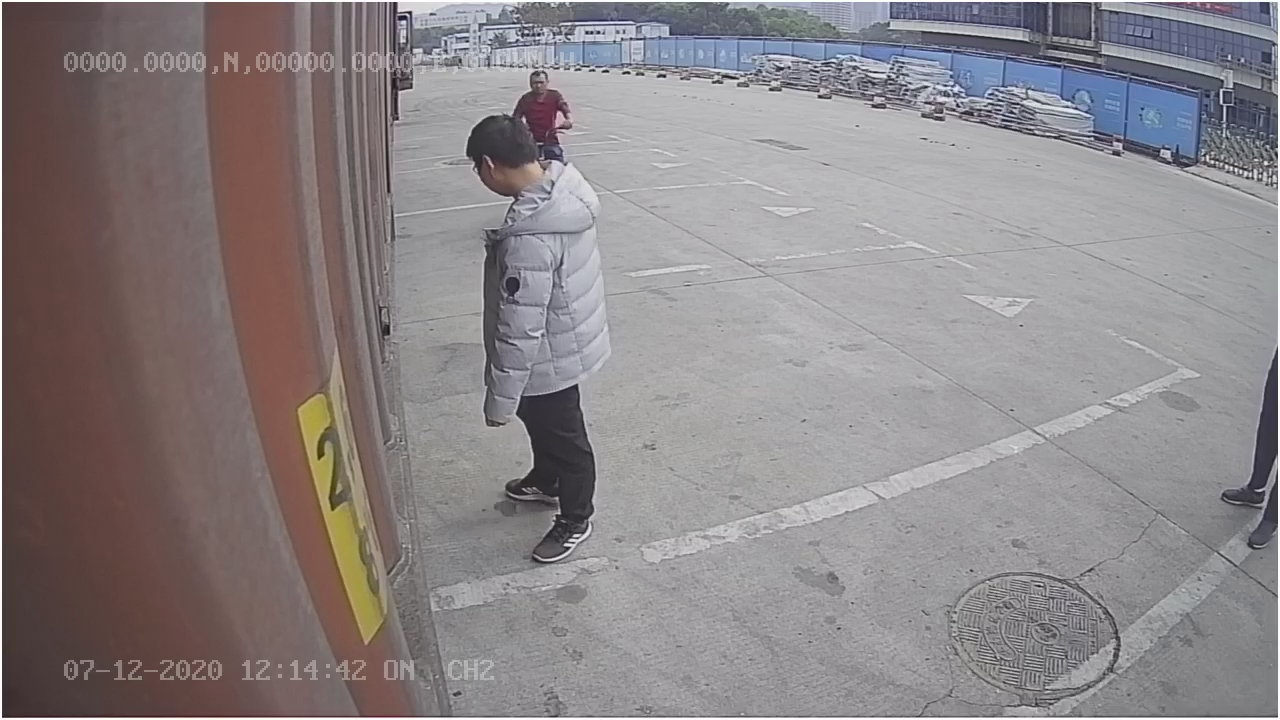person: (463, 114, 612, 567)
